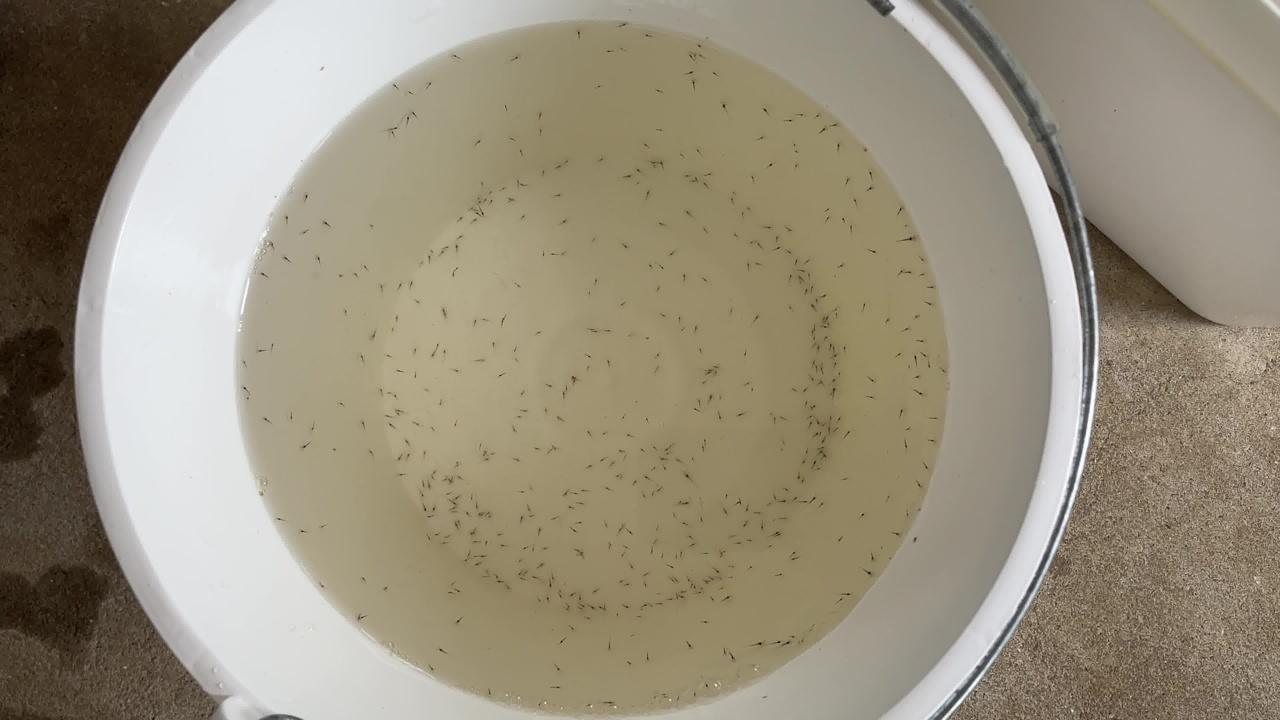shrimp: (498, 317, 510, 325), (536, 331, 548, 339), (513, 344, 525, 352), (490, 344, 502, 352), (479, 317, 491, 325), (467, 320, 479, 328), (503, 586, 515, 594), (496, 581, 508, 589), (490, 573, 502, 581), (478, 577, 490, 585), (486, 567, 498, 575), (474, 563, 486, 571), (462, 559, 474, 567), (461, 551, 473, 559), (477, 556, 489, 564), (481, 541, 493, 549), (470, 540, 482, 548), (469, 530, 481, 538), (489, 534, 501, 542), (498, 543, 510, 551), (456, 522, 468, 530), (453, 522, 465, 530), (464, 511, 476, 519), (448, 532, 460, 540), (440, 539, 452, 547), (435, 531, 447, 539), (423, 536, 435, 544), (425, 513, 437, 521), (418, 503, 430, 511), (413, 490, 425, 498), (420, 481, 432, 489), (424, 486, 436, 494), (429, 501, 441, 509), (429, 473, 441, 481), (438, 477, 450, 485), (442, 473, 454, 481), (445, 478, 457, 486), (450, 476, 462, 484), (455, 474, 467, 482), (453, 464, 465, 472), (441, 488, 453, 496), (458, 494, 470, 502), (449, 497, 461, 505), (448, 501, 460, 509), (448, 506, 460, 514), (467, 493, 479, 501), (474, 499, 486, 507), (476, 509, 488, 517), (484, 508, 496, 516), (486, 514, 498, 522), (516, 542, 528, 550), (527, 546, 539, 554), (538, 547, 550, 555), (514, 556, 526, 564), (513, 571, 525, 579), (520, 569, 532, 577), (518, 575, 530, 583), (529, 574, 541, 582), (534, 595, 546, 603), (543, 596, 555, 604), (544, 581, 556, 589), (550, 573, 562, 581), (537, 562, 549, 570), (534, 531, 546, 539), (515, 515, 527, 523), (529, 513, 541, 521), (521, 507, 533, 515), (474, 443, 486, 451), (481, 448, 493, 456), (489, 448, 501, 456), (482, 455, 494, 463), (509, 455, 521, 463), (518, 488, 530, 496), (548, 514, 560, 522), (565, 506, 577, 514), (577, 502, 589, 510), (561, 491, 573, 499), (570, 488, 582, 496), (582, 488, 594, 496), (599, 487, 611, 495), (576, 518, 588, 526), (571, 527, 583, 535), (571, 545, 583, 553), (577, 550, 589, 558), (554, 595, 566, 603), (555, 580, 567, 588), (539, 448, 551, 456), (551, 444, 563, 452), (528, 448, 540, 456), (508, 428, 520, 436), (397, 473, 409, 481), (391, 455, 403, 463), (420, 452, 432, 460), (402, 453, 414, 461), (389, 424, 401, 432), (380, 413, 392, 421), (399, 406, 411, 414), (390, 410, 402, 418), (412, 421, 424, 429), (402, 440, 414, 448), (427, 426, 439, 434), (435, 400, 447, 408), (448, 422, 460, 430), (498, 372, 510, 380), (513, 357, 525, 365), (516, 388, 528, 396), (519, 408, 531, 416), (515, 413, 527, 421), (540, 406, 552, 414), (544, 385, 556, 393), (553, 416, 565, 424), (555, 395, 567, 403), (560, 387, 572, 395), (569, 374, 581, 382), (582, 366, 594, 374), (581, 352, 593, 360), (592, 330, 604, 338), (589, 324, 601, 332), (603, 326, 615, 334), (605, 362, 617, 370), (600, 428, 612, 436), (585, 428, 597, 436), (586, 464, 598, 472), (599, 455, 611, 463), (571, 587, 583, 595), (562, 601, 574, 609), (563, 609, 575, 617), (573, 607, 585, 615), (575, 601, 587, 609), (584, 606, 596, 614), (583, 612, 595, 620), (592, 604, 604, 612), (600, 604, 612, 612), (588, 589, 600, 597), (623, 606, 635, 614), (613, 614, 625, 622), (606, 542, 618, 550), (601, 523, 613, 531), (620, 575, 632, 583), (623, 582, 635, 590), (625, 562, 637, 570), (618, 554, 630, 562), (622, 532, 634, 540), (614, 528, 626, 536), (615, 474, 627, 482), (631, 484, 643, 492), (611, 461, 623, 469), (618, 450, 630, 458), (639, 495, 651, 503), (652, 488, 664, 496), (643, 477, 655, 485), (640, 584, 652, 592), (643, 569, 655, 577), (646, 551, 658, 559), (651, 538, 663, 546), (652, 527, 664, 535), (656, 553, 668, 561), (647, 605, 659, 613), (656, 602, 668, 610), (663, 597, 675, 605), (670, 597, 682, 605), (675, 596, 687, 604), (679, 591, 691, 599), (638, 601, 650, 609), (634, 616, 646, 624), (628, 632, 640, 640), (605, 646, 617, 654), (566, 627, 578, 635), (557, 640, 569, 648), (551, 669, 563, 677), (547, 687, 559, 695), (443, 593, 455, 601), (454, 587, 466, 595), (447, 580, 459, 588), (456, 618, 468, 626), (436, 651, 448, 659), (427, 665, 439, 673), (485, 690, 497, 698), (604, 699, 616, 707), (750, 638, 762, 646), (768, 640, 780, 648), (783, 640, 795, 648), (788, 632, 800, 640), (732, 654, 744, 662), (719, 646, 731, 654), (686, 641, 698, 649), (636, 654, 648, 662), (674, 695, 686, 703), (688, 692, 700, 700), (702, 683, 714, 691), (700, 625, 712, 633), (723, 597, 735, 605), (831, 599, 843, 607), (842, 591, 854, 599), (663, 577, 675, 585), (668, 575, 680, 583), (682, 574, 694, 582), (684, 584, 696, 592), (694, 586, 706, 594), (708, 598, 720, 606), (718, 588, 730, 596), (668, 560, 680, 568), (668, 514, 680, 522), (628, 433, 640, 441), (635, 447, 647, 455), (650, 470, 662, 478), (681, 473, 693, 481), (681, 500, 693, 508), (674, 498, 686, 506), (680, 518, 692, 526), (686, 533, 698, 541), (689, 542, 701, 550), (679, 551, 691, 559), (696, 551, 708, 559), (711, 568, 723, 576), (707, 575, 719, 583), (703, 578, 715, 586), (727, 575, 739, 583), (730, 561, 742, 569), (741, 564, 753, 572), (777, 574, 789, 582), (791, 560, 803, 568), (784, 551, 796, 559), (835, 538, 847, 546), (861, 515, 873, 523), (881, 496, 893, 504), (870, 554, 882, 562), (864, 572, 876, 580), (734, 502, 746, 510), (730, 500, 742, 508), (741, 506, 753, 514), (719, 550, 731, 558), (728, 534, 740, 542), (737, 543, 749, 551), (744, 536, 756, 544), (774, 531, 786, 539), (769, 528, 781, 536), (758, 521, 770, 529), (754, 510, 766, 518), (739, 521, 751, 529), (719, 508, 731, 516), (677, 457, 689, 465), (661, 443, 673, 451), (663, 451, 675, 459), (657, 457, 669, 465), (649, 447, 661, 455), (411, 373, 423, 381), (452, 267, 464, 275), (473, 213, 485, 221), (468, 220, 480, 228), (468, 206, 480, 214), (453, 216, 465, 224), (454, 232, 466, 240), (478, 210, 490, 218), (473, 200, 485, 208), (480, 197, 492, 205), (485, 205, 497, 213), (485, 191, 497, 199), (478, 184, 490, 192), (474, 195, 486, 203), (451, 241, 463, 249), (438, 306, 450, 314), (427, 351, 439, 359), (434, 339, 446, 347), (438, 349, 450, 357), (451, 369, 463, 377), (476, 358, 488, 366), (818, 502, 830, 510), (810, 497, 822, 505), (797, 502, 809, 510), (776, 517, 788, 525), (763, 504, 775, 512), (781, 501, 793, 509), (770, 496, 782, 504), (791, 494, 803, 502), (782, 487, 794, 495), (696, 448, 708, 456), (699, 439, 711, 447), (685, 458, 697, 466), (698, 514, 710, 522), (721, 493, 733, 501), (695, 406, 707, 414), (714, 415, 726, 423), (736, 413, 748, 421), (790, 469, 802, 477), (795, 476, 807, 484), (836, 477, 848, 485), (894, 533, 906, 541), (913, 482, 925, 490), (918, 463, 930, 471), (926, 440, 938, 448), (926, 419, 938, 427), (901, 445, 913, 453), (901, 504, 913, 512), (386, 583, 398, 591), (358, 575, 370, 583), (358, 615, 370, 623), (353, 612, 365, 620), (313, 588, 325, 596), (273, 517, 285, 525), (292, 525, 304, 533), (320, 522, 332, 530), (821, 453, 833, 461), (817, 448, 829, 456), (815, 444, 827, 452), (818, 464, 830, 472), (809, 460, 821, 468), (799, 458, 811, 466), (803, 448, 815, 456), (711, 374, 723, 382), (714, 360, 726, 368), (705, 366, 717, 374), (702, 373, 714, 381), (705, 398, 717, 406), (712, 393, 724, 401), (748, 389, 760, 397), (742, 381, 754, 389), (770, 417, 782, 425), (776, 415, 788, 423), (807, 429, 819, 437), (816, 429, 828, 437), (844, 432, 856, 440), (831, 428, 843, 436), (803, 414, 815, 422), (835, 416, 847, 424), (816, 419, 828, 427), (823, 415, 835, 423), (899, 429, 911, 437), (897, 411, 909, 419), (652, 351, 664, 359), (652, 367, 664, 375), (644, 415, 656, 423), (616, 413, 628, 421), (640, 338, 652, 346), (659, 313, 671, 321), (676, 316, 688, 324), (676, 324, 688, 332), (724, 306, 736, 314), (747, 317, 759, 325), (740, 348, 752, 356), (694, 327, 706, 335), (696, 347, 708, 355), (870, 377, 882, 385), (863, 395, 875, 403), (914, 389, 926, 397), (935, 366, 947, 374), (903, 237, 915, 245), (914, 254, 926, 262), (903, 271, 915, 279), (893, 271, 905, 279), (857, 304, 869, 312), (828, 393, 840, 401), (824, 390, 836, 398), (913, 374, 925, 382), (926, 362, 938, 370), (893, 352, 905, 360), (882, 318, 894, 326), (923, 299, 935, 307), (915, 272, 927, 280), (926, 283, 938, 291), (912, 311, 924, 319), (903, 327, 915, 335), (908, 356, 920, 364), (918, 350, 930, 358), (915, 339, 927, 347), (811, 403, 823, 411), (800, 397, 812, 405), (790, 386, 802, 394), (801, 385, 813, 393), (836, 372, 848, 380), (831, 377, 843, 385), (805, 376, 817, 384), (806, 361, 818, 369), (819, 370, 831, 378), (813, 366, 825, 374), (818, 382, 830, 390), (812, 382, 824, 390), (843, 346, 855, 354), (832, 364, 844, 372), (830, 355, 842, 363), (830, 347, 842, 355), (826, 345, 838, 353), (809, 342, 821, 350), (811, 344, 823, 352), (808, 336, 820, 344), (822, 338, 834, 346), (808, 327, 820, 335), (817, 326, 829, 334), (825, 322, 837, 330), (831, 316, 843, 324), (831, 308, 843, 316), (825, 315, 837, 323), (819, 315, 831, 323), (836, 262, 848, 270), (865, 246, 877, 254), (896, 207, 908, 215), (867, 170, 879, 178), (846, 177, 858, 185), (820, 205, 832, 213), (823, 215, 835, 223), (867, 187, 879, 195), (852, 200, 864, 208), (839, 214, 851, 222), (846, 224, 858, 232), (804, 256, 816, 264), (792, 165, 804, 173), (762, 162, 774, 170), (745, 263, 757, 271), (755, 263, 767, 271), (785, 307, 797, 315), (808, 307, 820, 315), (786, 274, 798, 282), (821, 295, 833, 303), (798, 290, 810, 298), (812, 297, 824, 305), (798, 282, 810, 290), (798, 268, 810, 276), (805, 275, 817, 283), (808, 288, 820, 296), (792, 261, 804, 269), (784, 249, 796, 257), (770, 246, 782, 254), (747, 239, 759, 247), (757, 247, 769, 255), (765, 224, 777, 232), (786, 225, 798, 233), (781, 221, 793, 229), (775, 235, 787, 243), (704, 278, 716, 286), (680, 274, 692, 282), (280, 254, 292, 262), (259, 273, 271, 281), (255, 347, 267, 355), (267, 343, 279, 351), (239, 359, 251, 367), (239, 383, 251, 391), (243, 397, 255, 405), (260, 417, 272, 425), (301, 444, 313, 452), (285, 414, 297, 422), (306, 425, 318, 433), (336, 399, 348, 407), (356, 419, 368, 427), (364, 449, 376, 457), (837, 143, 849, 151), (832, 123, 844, 131), (815, 129, 827, 137), (789, 147, 801, 155), (757, 134, 769, 142), (759, 106, 771, 114), (785, 119, 797, 127), (813, 114, 825, 122), (795, 113, 807, 121), (697, 54, 709, 62), (690, 52, 702, 60), (685, 56, 697, 64), (694, 45, 706, 53), (709, 74, 721, 82), (684, 70, 696, 78), (687, 79, 699, 87), (719, 103, 731, 111), (643, 32, 655, 40), (570, 28, 582, 36), (620, 21, 632, 29), (608, 47, 620, 55), (617, 47, 629, 55), (595, 83, 607, 91), (659, 263, 671, 271), (667, 251, 679, 259), (685, 208, 697, 216), (659, 160, 671, 168), (649, 158, 661, 166), (649, 164, 661, 172), (621, 172, 633, 180), (631, 168, 643, 176), (640, 189, 652, 197), (657, 220, 669, 228), (645, 263, 657, 271), (618, 300, 630, 308), (651, 285, 663, 293), (728, 233, 740, 241), (745, 178, 757, 186), (706, 170, 718, 178), (655, 122, 667, 130), (653, 86, 665, 94), (643, 142, 655, 150), (676, 154, 688, 162), (683, 173, 695, 181), (695, 150, 707, 158), (692, 171, 704, 179), (689, 180, 701, 188), (698, 181, 710, 189), (730, 188, 742, 196), (728, 196, 740, 204), (743, 205, 755, 213), (736, 209, 748, 217), (701, 226, 713, 234), (377, 389, 389, 397), (318, 262, 330, 270), (282, 214, 294, 222), (300, 197, 312, 205), (297, 230, 309, 238), (319, 220, 331, 228), (388, 125, 400, 133), (390, 82, 402, 90), (404, 116, 416, 124), (405, 92, 417, 100), (409, 115, 421, 123), (422, 80, 434, 88), (454, 52, 466, 60), (510, 57, 522, 65), (593, 157, 605, 165), (586, 277, 598, 285), (622, 244, 634, 252), (353, 353, 365, 361), (395, 367, 407, 375), (443, 243, 455, 251), (439, 251, 451, 259), (429, 245, 441, 253), (415, 258, 427, 266), (422, 252, 434, 260), (498, 182, 510, 190), (476, 138, 488, 146), (499, 104, 511, 112), (533, 114, 545, 122), (503, 137, 515, 145), (534, 130, 546, 138), (517, 149, 529, 157), (511, 176, 523, 184), (519, 180, 531, 188), (508, 198, 520, 206), (518, 214, 530, 222), (563, 157, 575, 165), (554, 163, 566, 171), (538, 169, 550, 177), (547, 252, 559, 260), (537, 249, 549, 257), (552, 192, 564, 200), (557, 217, 569, 225), (558, 248, 570, 256), (512, 282, 524, 290), (384, 351, 396, 359), (338, 273, 350, 281), (403, 280, 415, 288), (378, 283, 390, 291), (394, 283, 406, 291), (409, 299, 421, 307), (368, 333, 380, 341), (359, 263, 371, 271), (344, 305, 356, 313), (348, 271, 360, 279), (385, 327, 397, 335), (391, 313, 403, 321), (408, 346, 420, 354), (585, 236, 597, 244)
